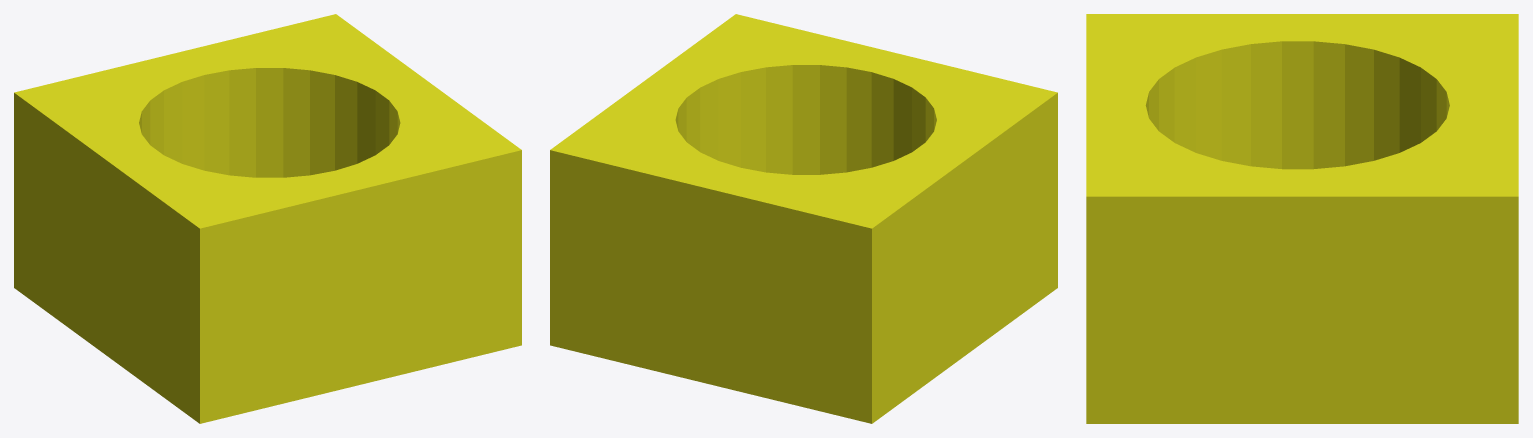
File: cubeHolePrev.fbx
3 views of the same model, side by side, from view 1: azimuth 30°, elevation 25°; view 2: azimuth 150°, elevation 25°; view 3: azimuth 270°, elevation 25° (orthographic). The views are drawn at different scales.
Parts seen in each view (by area): view 1: square with hole.004; view 2: square with hole.004; view 3: square with hole.004.
Boxes of the visible parts, box(x1,y1,x2,y2) form: square with hole.004: box(14, 14, 521, 423); square with hole.004: box(550, 14, 1057, 423); square with hole.004: box(1086, 14, 1518, 423).
Size of the model in its own units: 104 by 60.19 by 104.
